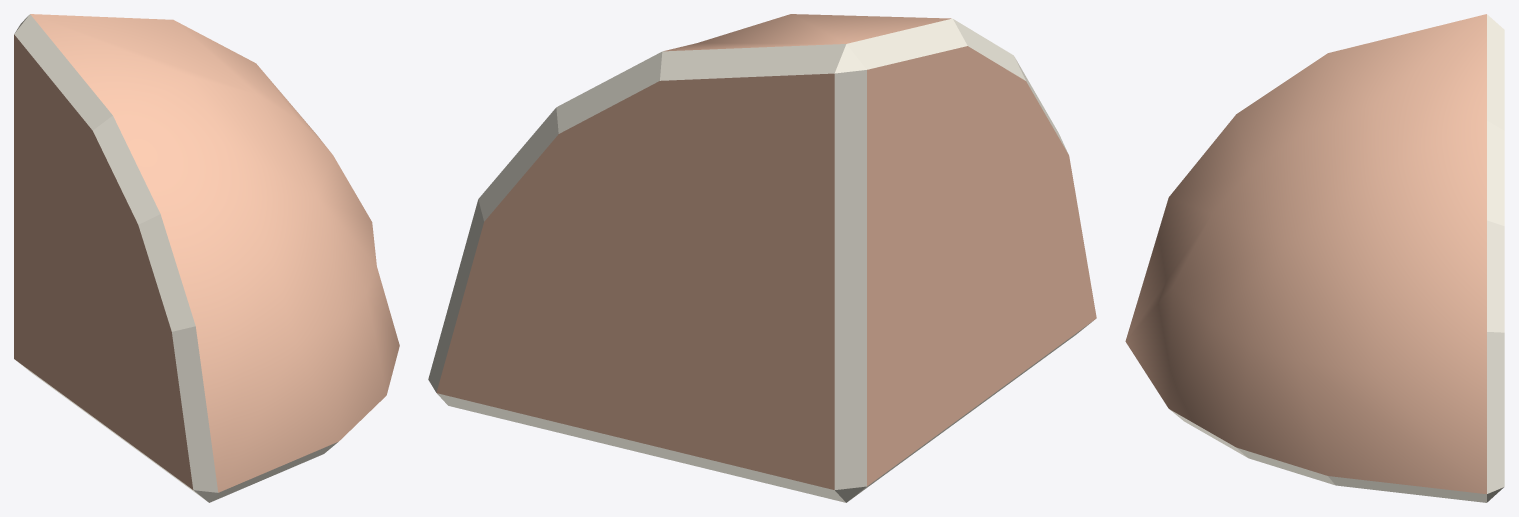
The model's file is R4B_RoundCorner_LOD1.fbx.
The picture shows the model from 3 angles, left to right: view 1: azimuth 30°, elevation 25°; view 2: azimuth 150°, elevation 25°; view 3: azimuth 270°, elevation 25°; orthographic projection. The views are drawn at different scales.
Parts seen in each view (by area): view 1: R4B_RoundCorner_LOD1; view 2: R4B_RoundCorner_LOD1; view 3: R4B_RoundCorner_LOD1.
Boxes of the visible parts, <box> form: R4B_RoundCorner_LOD1: <box>14,14,399,502</box>; R4B_RoundCorner_LOD1: <box>428,14,1096,502</box>; R4B_RoundCorner_LOD1: <box>1125,14,1504,502</box>.
Bounding box in the file's own units: 0.5139 × 0.5139 × 0.5139.
